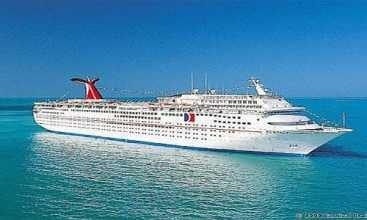youlun: (28, 71, 351, 162)
